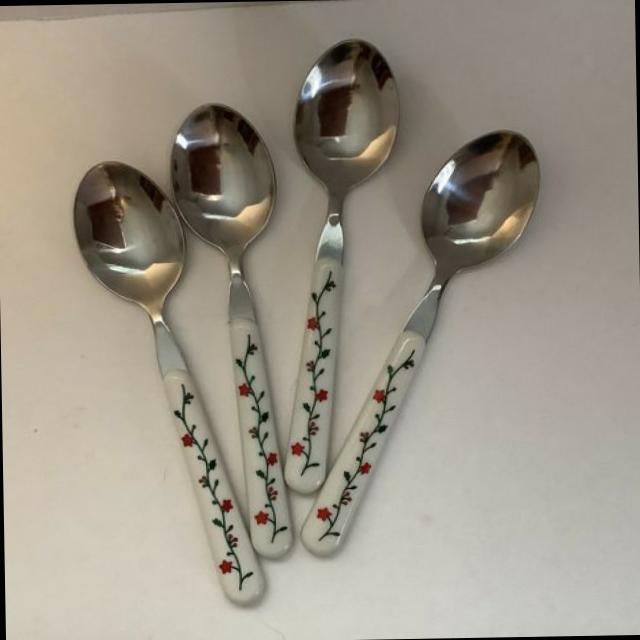spoon: (291, 118, 561, 568), (52, 149, 273, 625), (148, 92, 304, 579), (271, 33, 418, 502)
